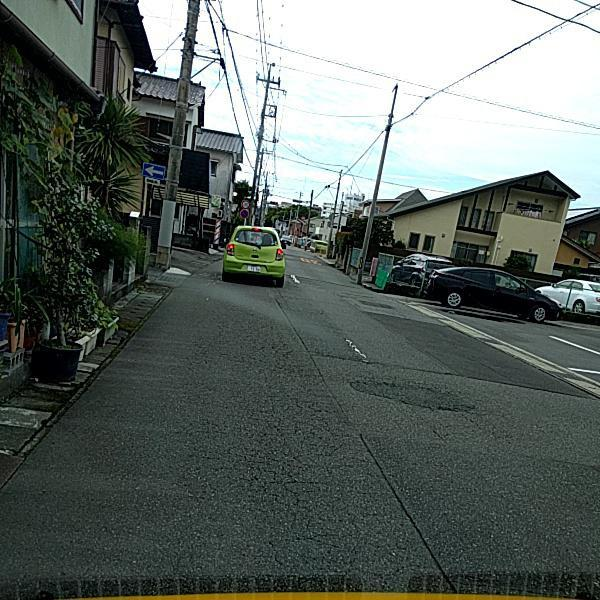D20: (150, 317, 361, 574)
